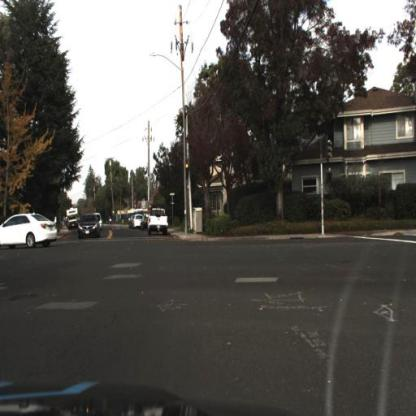car: (1, 211, 61, 250), (145, 202, 172, 236), (76, 211, 101, 238)
trafficLight-Red: (182, 156, 194, 187), (185, 157, 191, 184)
truck: (65, 205, 80, 234)
